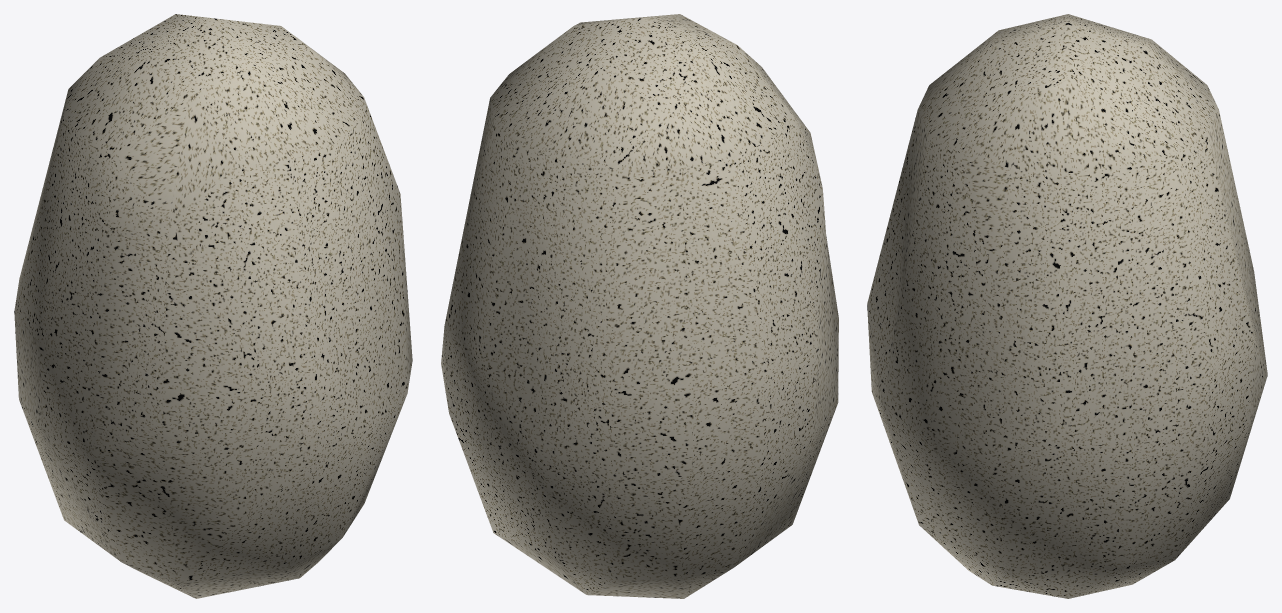
Rendered from DinoEgg_01.dae.
3 renders of one model, left to right at view 1: azimuth 30°, elevation 25°; view 2: azimuth 150°, elevation 25°; view 3: azimuth 270°, elevation 25°, orthographic.
Parts seen in each view (by area): view 1: DinoEgg300; view 2: DinoEgg300; view 3: DinoEgg300.
Boxes of the visible parts, left/top/right/bottom form: DinoEgg300: left=14, top=14, right=412, bottom=598; DinoEgg300: left=441, top=14, right=838, bottom=598; DinoEgg300: left=867, top=14, right=1267, bottom=598.
Size of what is drawn, in the model's own units: 0.3584 by 0.3558 by 0.5604.
